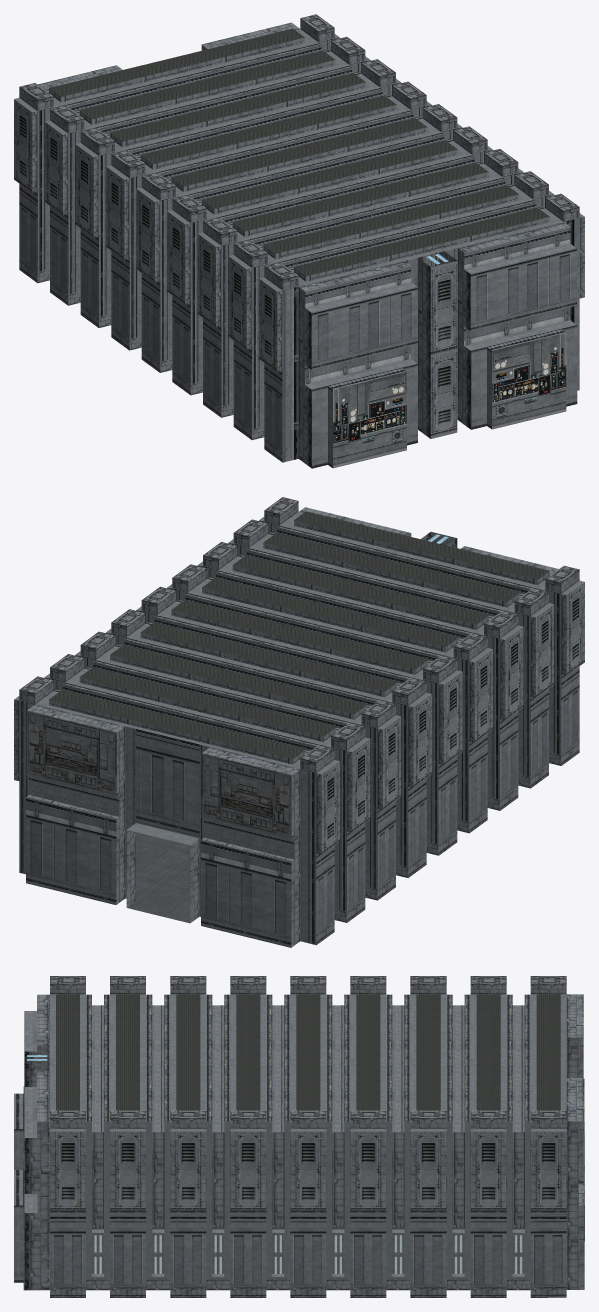
Rendered from poi_all_impl_bunker_s02_r10_bunker_mesh_r10.fbx.
3 views of the same model, one above another, from view 1: azimuth 30°, elevation 25°; view 2: azimuth 150°, elevation 25°; view 3: azimuth 270°, elevation 25° (orthographic).
Parts seen in each view (by area): view 1: mesh_node; view 2: mesh_node; view 3: mesh_node.
Part boxes in pixels (<box>): mesh_node: <box>14,14,584,468</box>; mesh_node: <box>14,497,584,947</box>; mesh_node: <box>14,976,584,1297</box>.
Size of the model in its own units: 14.5 by 8.25 by 23.76.
